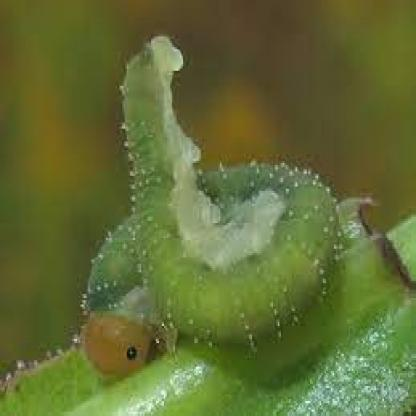sawfly: (73, 30, 344, 384)
